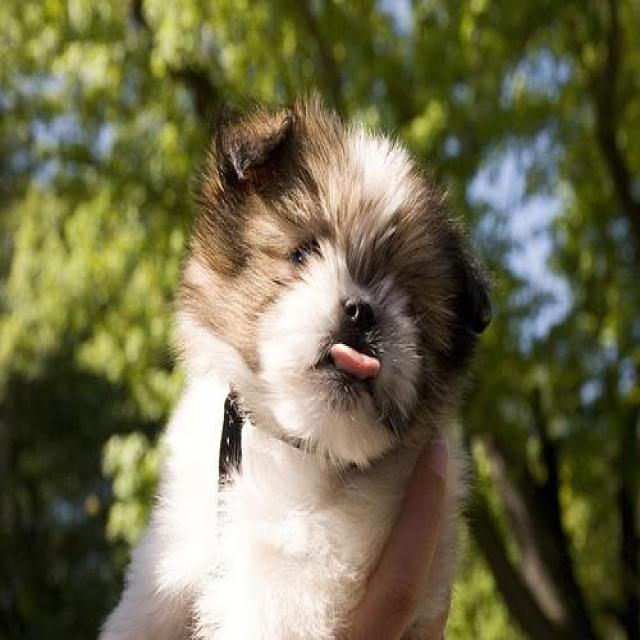shih_tzu: (92, 94, 497, 638)
